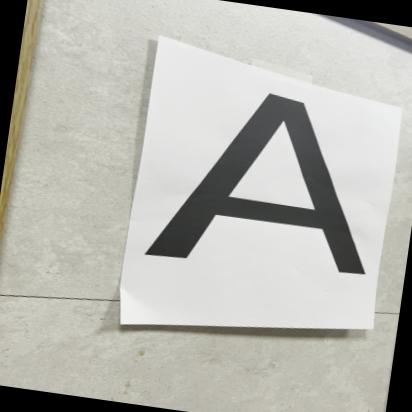seat: (134, 74, 398, 297)
